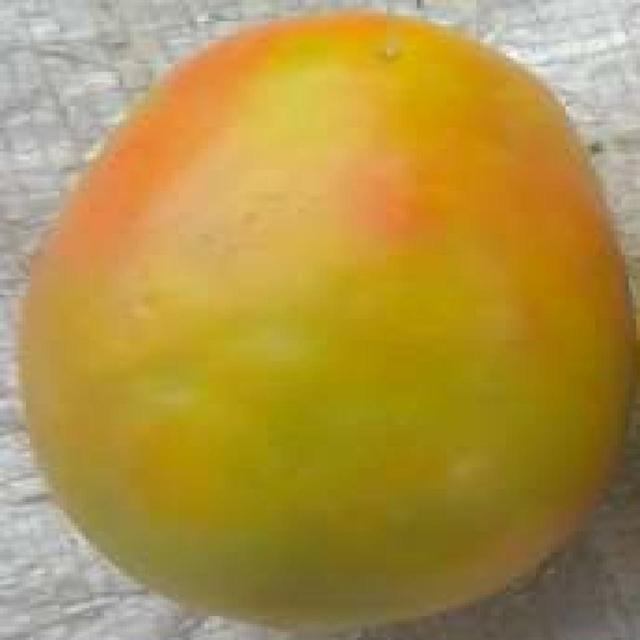Spotted wilt Virus Fruit: (37, 25, 52, 220)
